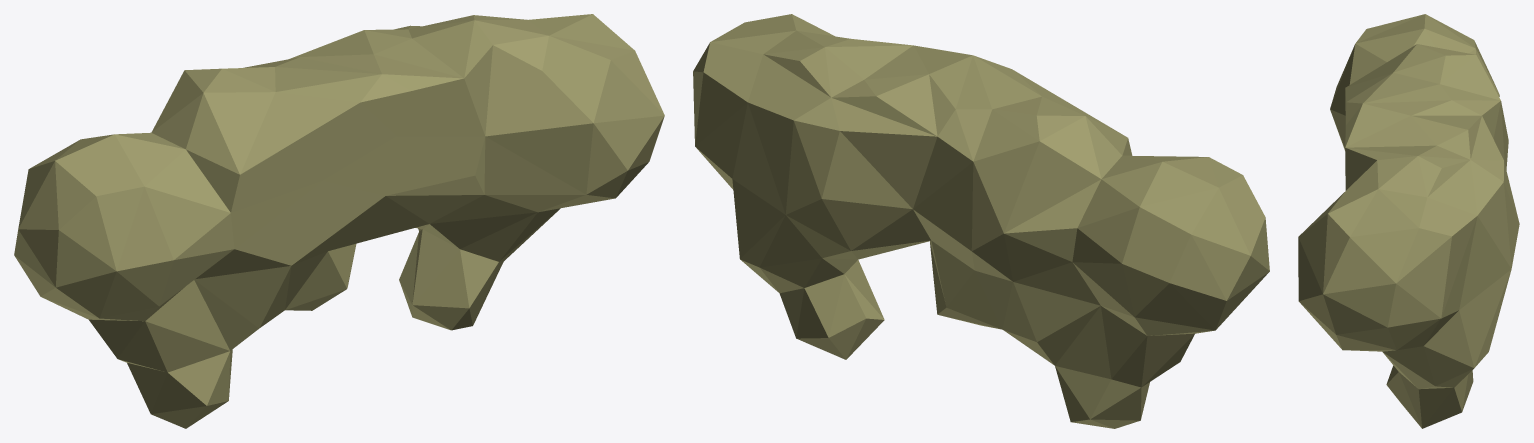
The model's file is DeadVegetationDecorationLargeCluster1.fbx.
The picture shows the model from 3 angles, left to right: view 1: azimuth 30°, elevation 25°; view 2: azimuth 150°, elevation 25°; view 3: azimuth 270°, elevation 25°; orthographic projection. The views are drawn at different scales.
Visible parts, largest first — view 1: DeadVegetationDecorationLargeCluster1; view 2: DeadVegetationDecorationLargeCluster1; view 3: DeadVegetationDecorationLargeCluster1.
Part boxes in pixels (x1=…): DeadVegetationDecorationLargeCluster1: x1=14, y1=14, x2=664, y2=428; DeadVegetationDecorationLargeCluster1: x1=693, y1=14, x2=1269, y2=428; DeadVegetationDecorationLargeCluster1: x1=1298, y1=14, x2=1519, y2=428.
Size of the model in its own units: 1104 by 581 by 397.
